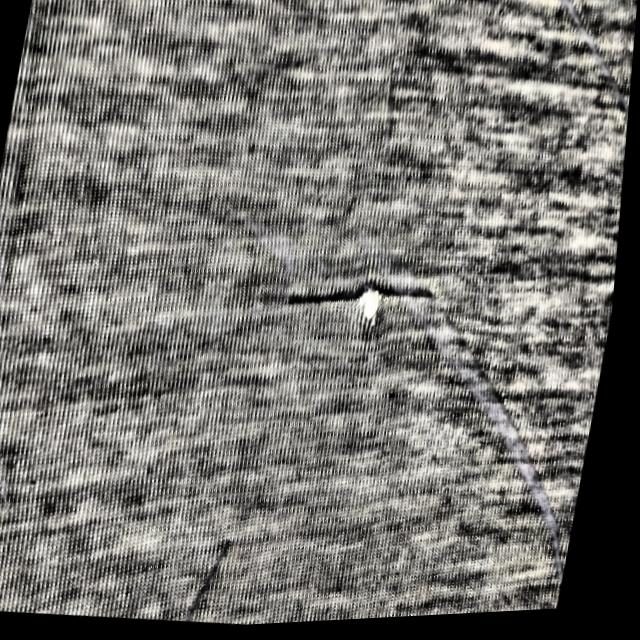Hole: (356, 281, 394, 335)
